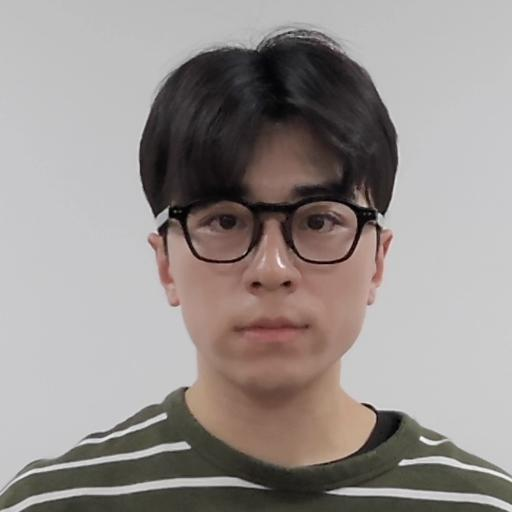no_glasses: (133, 46, 407, 384)
